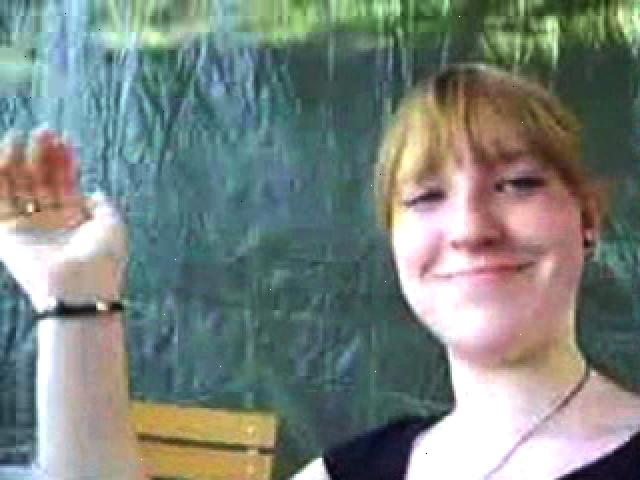T: (6, 65, 636, 476)
